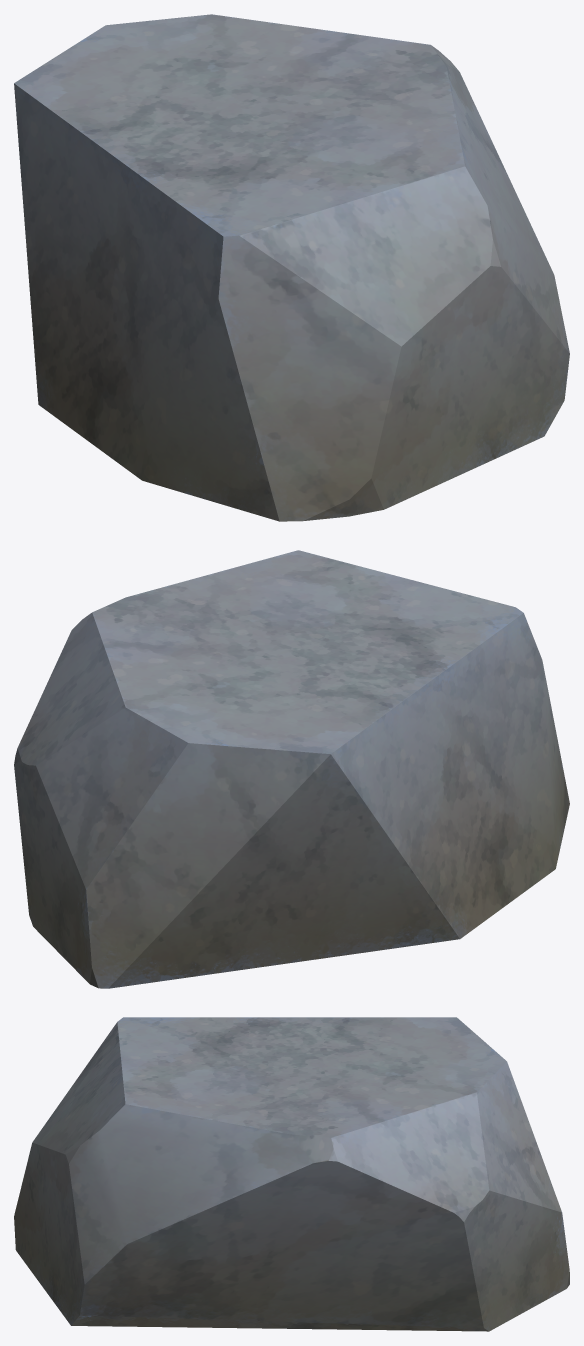
Rendered from Rock_5.fbx.
3 views of the same model, one above another, from view 1: azimuth 30°, elevation 25°; view 2: azimuth 150°, elevation 25°; view 3: azimuth 270°, elevation 25° (orthographic). The views are drawn at different scales.
Parts seen in each view (by area): view 1: Rock_5_low; view 2: Rock_5_low; view 3: Rock_5_low.
Part boxes in pixels (box(x1,y1,x2,y2)): Rock_5_low: box(14, 14, 569, 521); Rock_5_low: box(14, 550, 569, 988); Rock_5_low: box(14, 1017, 569, 1331).
Bounding box in the file's own units: 0.7595 × 0.4567 × 1.11.
